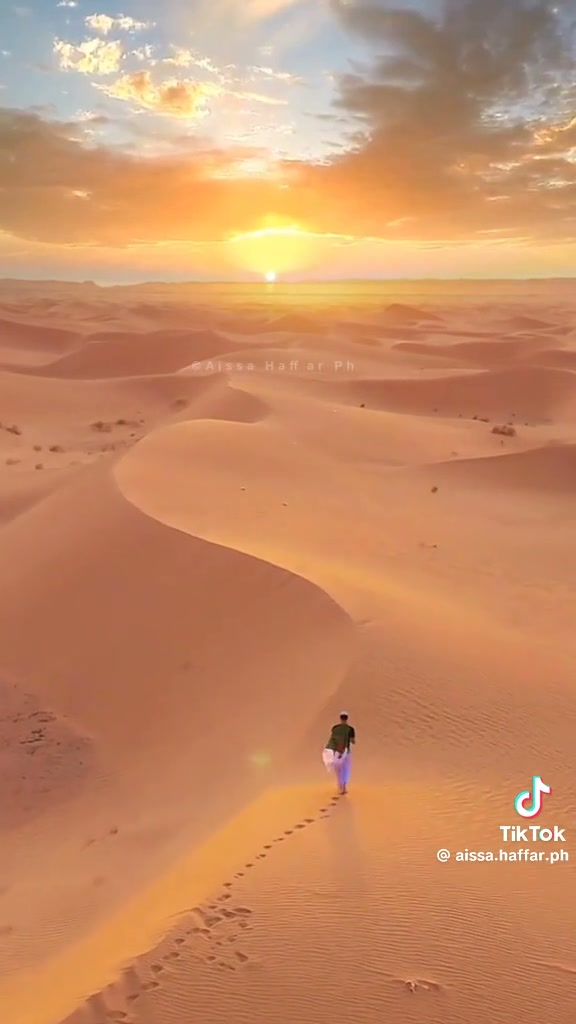human_footprint: (90, 796, 337, 1023)
